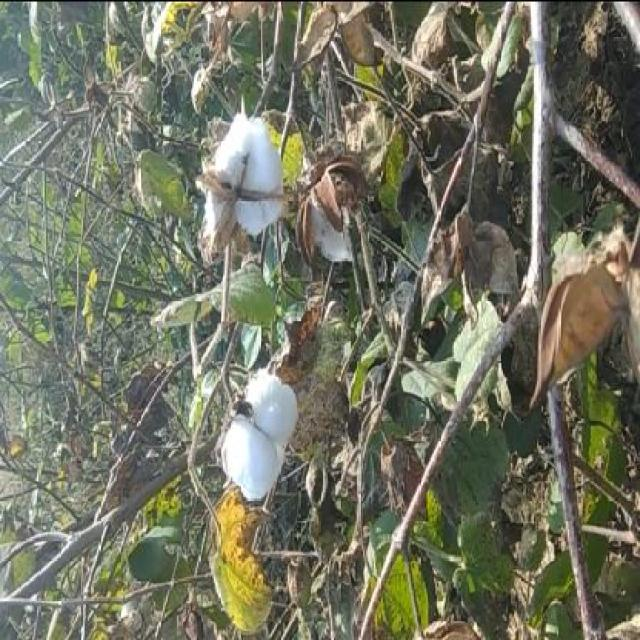cotton_ready: (192, 97, 296, 268), (212, 342, 311, 510)
